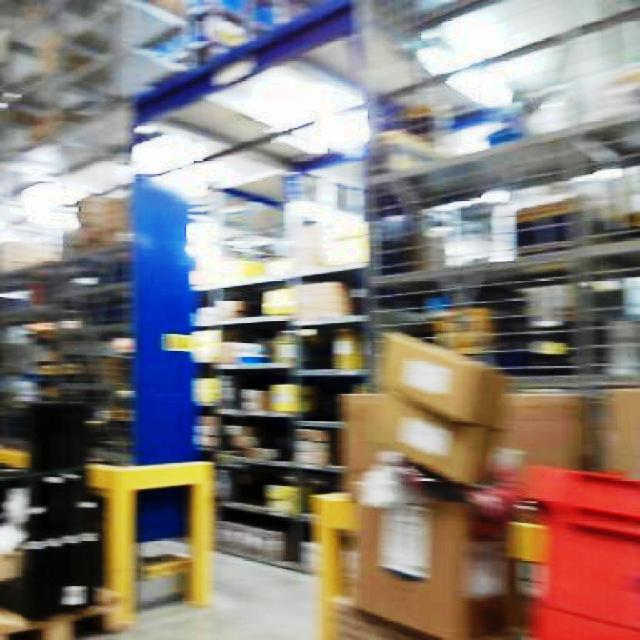ground: (0, 535, 534, 638)
pallet: (0, 326, 638, 638), (311, 329, 520, 638), (0, 455, 217, 638), (523, 462, 638, 638), (0, 582, 122, 638)
